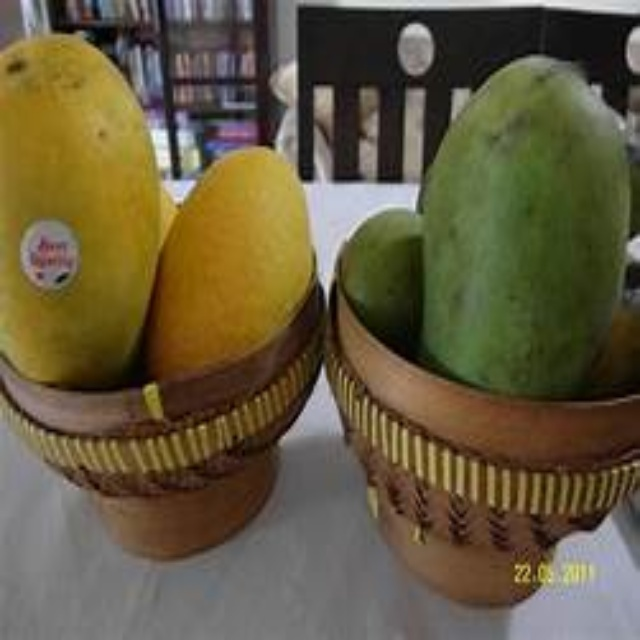mango: (425, 53, 625, 404), (0, 35, 163, 387), (150, 143, 312, 411), (339, 205, 436, 361)
